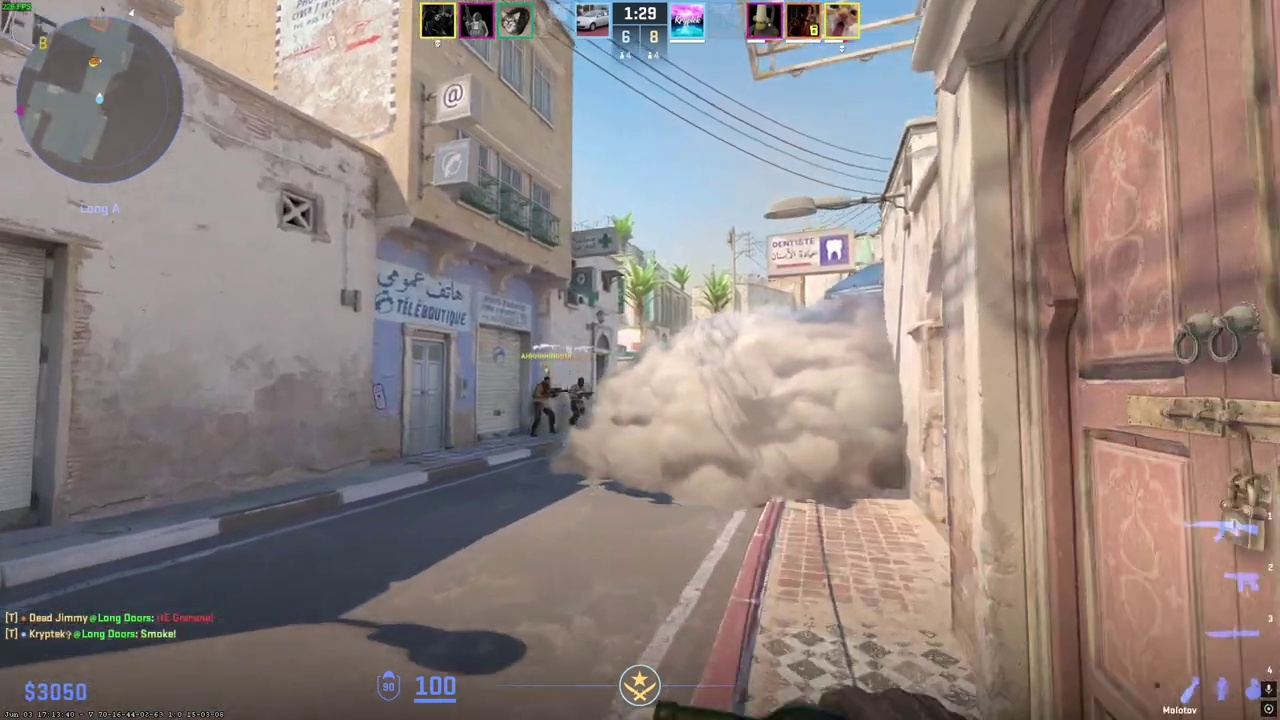Terrorist: (530, 376, 559, 437), (568, 377, 587, 426)
